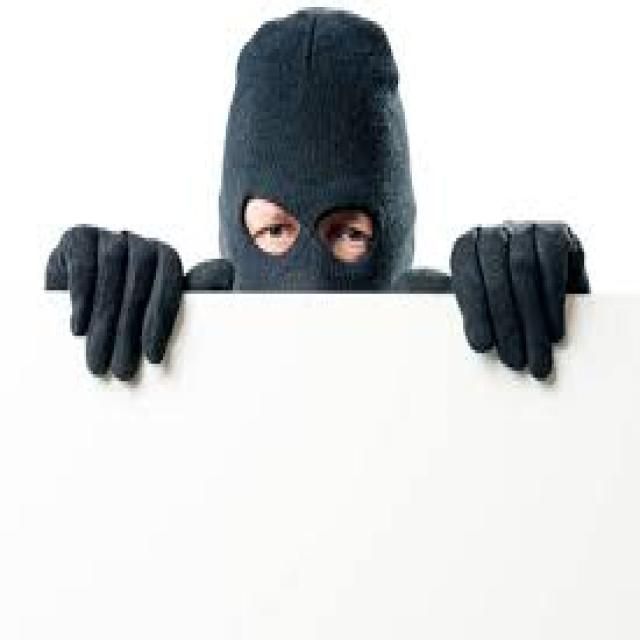person-with-mask: (11, 5, 630, 438)
